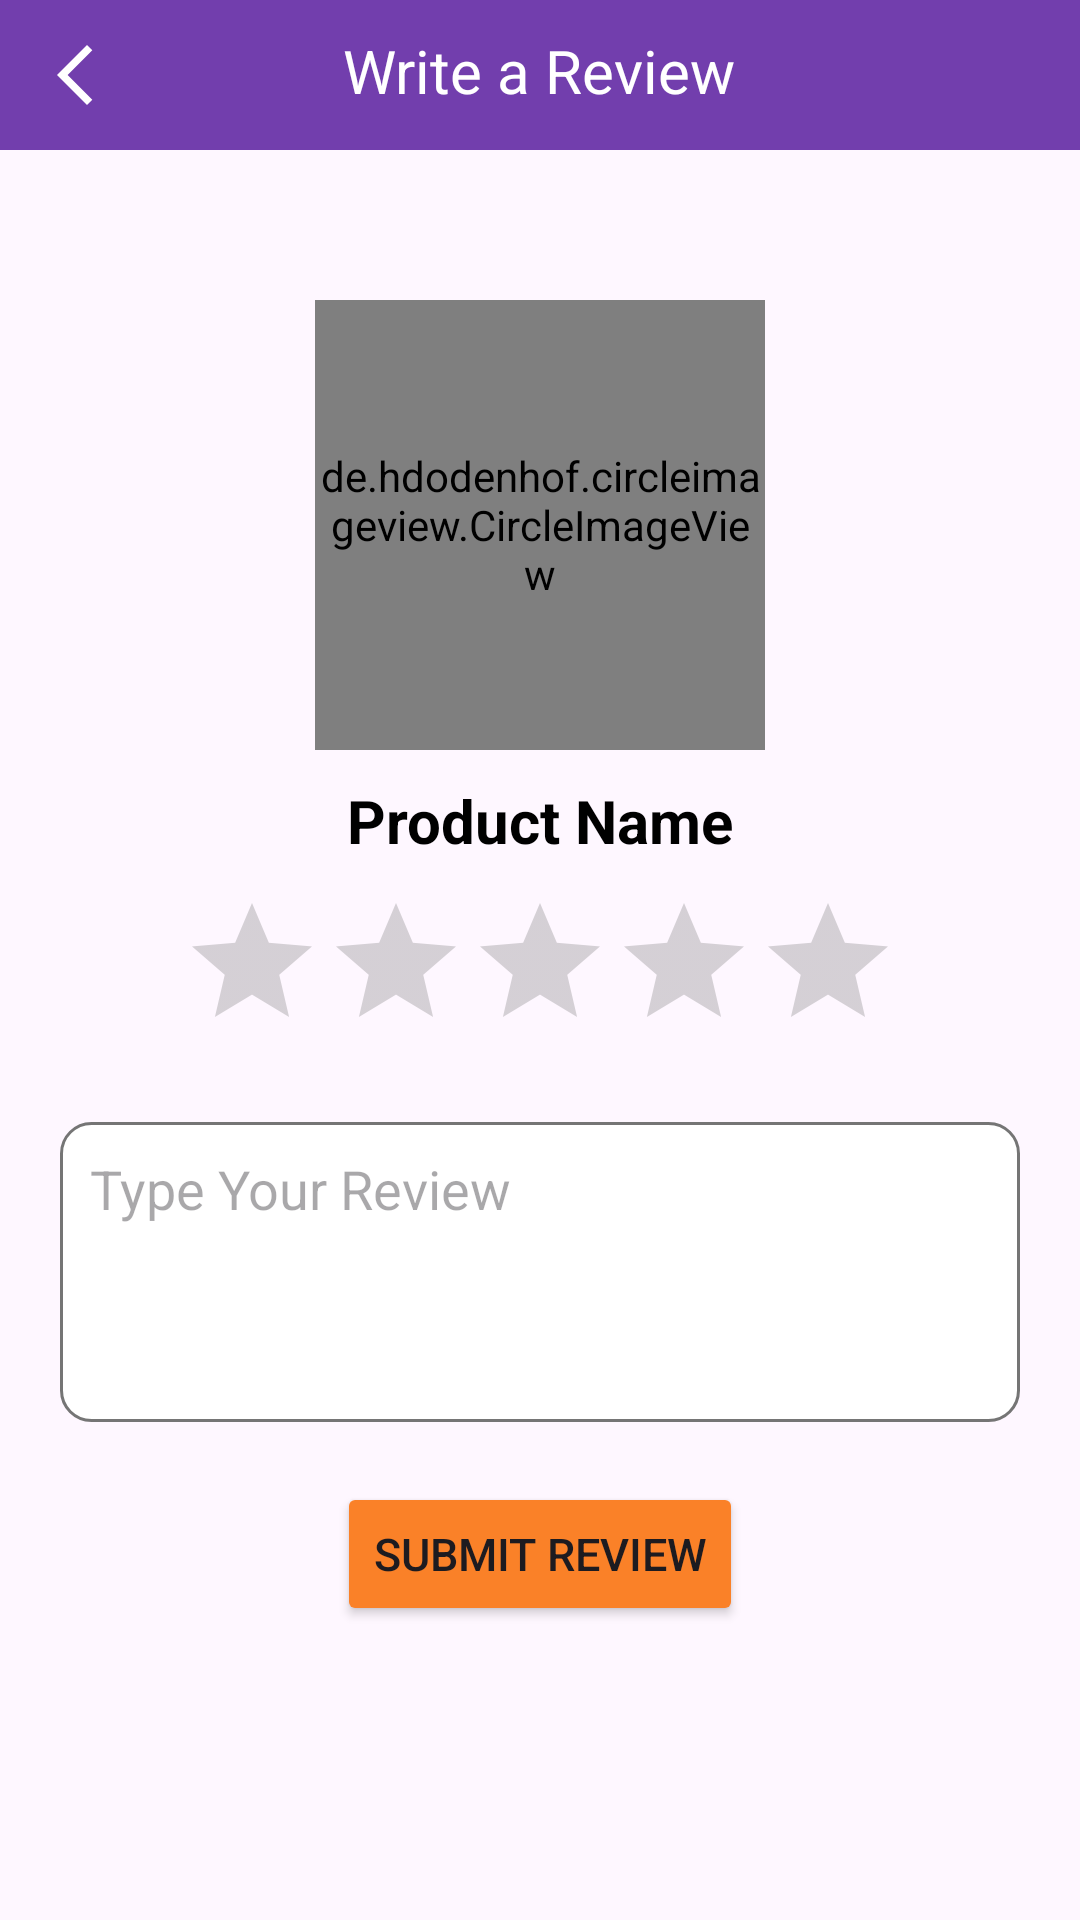

Point at icon controls on the screen. Image size 1080 x 1920, points as point (x, y).
arrow back: point (74, 75)
